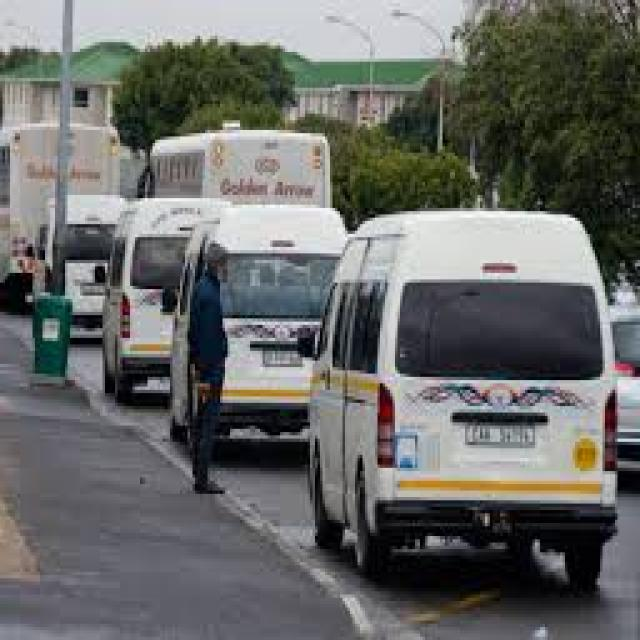MiniBus taxi: (310, 202, 620, 582), (165, 204, 350, 438), (95, 182, 227, 400), (28, 188, 140, 334), (185, 240, 233, 497)
